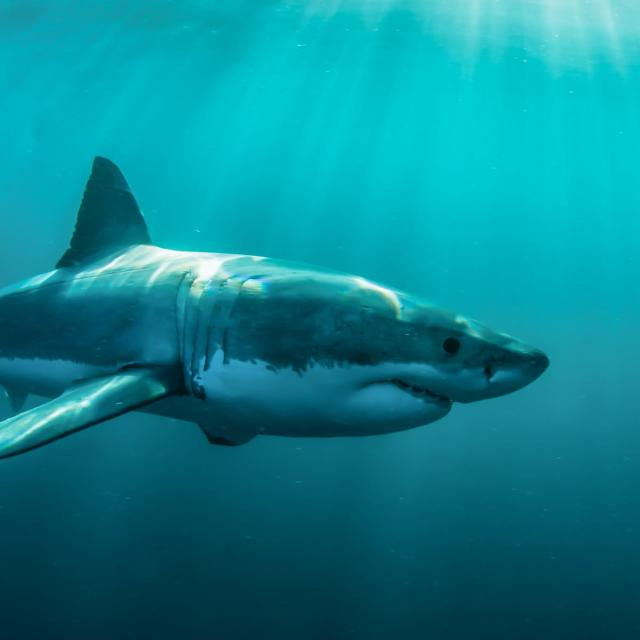shark: (0, 157, 548, 459)
